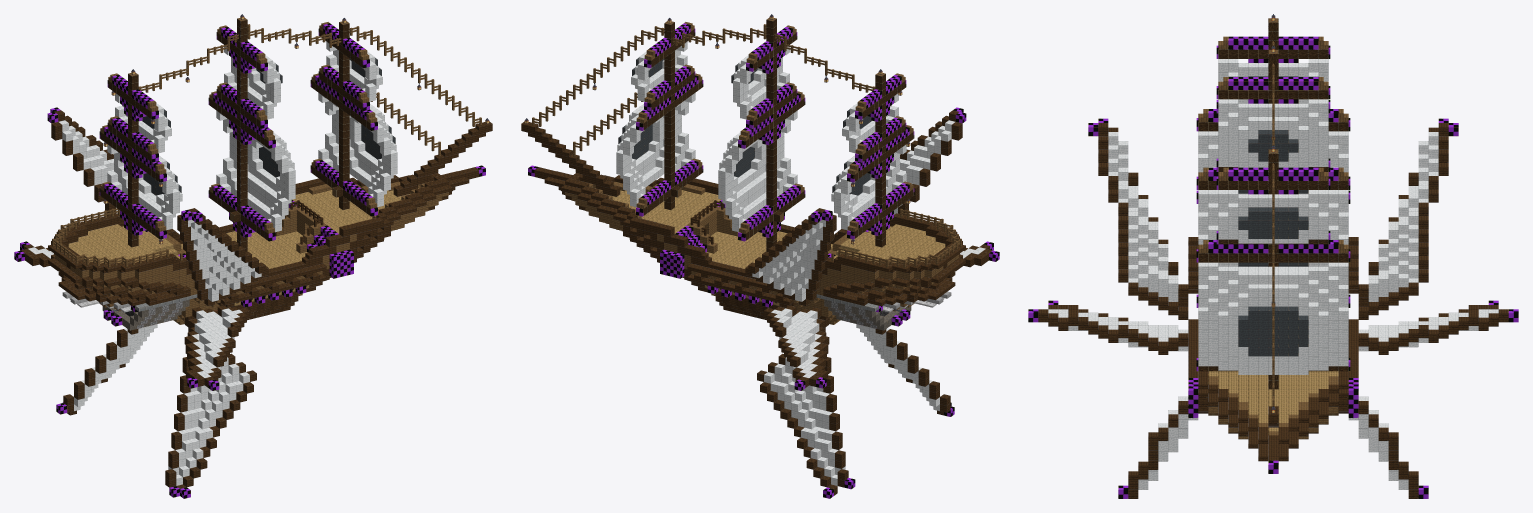
File: air_ship.obj
The picture shows the model from 3 angles, left to right: view 1: azimuth 30°, elevation 25°; view 2: azimuth 150°, elevation 25°; view 3: azimuth 270°, elevation 25°; orthographic projection. The views are drawn at different scales.
Parts seen in each view (by area): view 1: chunk_mesh_0_16_16, chunk_mesh_32_16_16, chunk_mesh_0_32_16, chunk_mesh_16_32_16, chunk_mesh_32_32_16, chunk_mesh_16_16_16, chunk_mesh_16_16_32, chunk_mesh_0_16_32, chunk_mesh_0_0_32, chunk_mesh_48_16_16, chunk_mesh_16_48_16, chunk_mesh_0_32_0 (+8 smaller); view 2: chunk_mesh_0_16_16, chunk_mesh_32_16_16, chunk_mesh_16_16_16, chunk_mesh_0_32_16, chunk_mesh_16_32_16, chunk_mesh_32_32_16, chunk_mesh_0_0_0, chunk_mesh_0_16_0, chunk_mesh_48_16_16, chunk_mesh_16_48_16, chunk_mesh_16_16_0, chunk_mesh_0_32_32 (+7 smaller); view 3: chunk_mesh_32_32_16, chunk_mesh_32_16_16, chunk_mesh_16_48_16, chunk_mesh_16_32_16, chunk_mesh_16_16_32, chunk_mesh_16_16_0, chunk_mesh_32_48_16, chunk_mesh_0_48_16, chunk_mesh_0_16_32, chunk_mesh_0_16_0, chunk_mesh_48_16_16, chunk_mesh_0_32_32 (+9 smaller).
Part boxes in pixels (x1,y1,x2,y2): chunk_mesh_0_16_16: (48,208,197,345); chunk_mesh_32_16_16: (273,148,410,295); chunk_mesh_0_32_16: (99,94,182,244); chunk_mesh_16_32_16: (208,65,295,216); chunk_mesh_32_32_16: (310,42,397,191); chunk_mesh_16_16_16: (166,173,309,332); chunk_mesh_16_16_32: (200,232,312,339); chunk_mesh_0_16_32: (139,255,235,388); chunk_mesh_0_0_32: (165,375,219,498); chunk_mesh_48_16_16: (385,143,485,228); chunk_mesh_16_48_16: (171,14,282,96); chunk_mesh_0_32_0: (47,107,113,186); chunk_mesh_0_16_16: (816,208,965,345); chunk_mesh_32_16_16: (603,148,740,295); chunk_mesh_16_16_16: (701,173,847,332); chunk_mesh_0_32_16: (831,94,913,244); chunk_mesh_16_32_16: (718,65,804,216); chunk_mesh_32_32_16: (616,42,702,191); chunk_mesh_0_0_0: (794,385,855,498); chunk_mesh_0_16_0: (778,255,829,390); chunk_mesh_48_16_16: (528,143,628,228); chunk_mesh_16_48_16: (731,14,842,96); chunk_mesh_16_16_0: (745,251,809,339); chunk_mesh_0_32_32: (900,107,966,195); chunk_mesh_32_32_16: (1198,203,1350,360); chunk_mesh_32_16_16: (1198,352,1358,432); chunk_mesh_16_48_16: (1216,45,1330,152); chunk_mesh_16_32_16: (1198,144,1350,266); chunk_mesh_16_16_32: (1118,234,1198,374); chunk_mesh_16_16_0: (1358,234,1428,354); chunk_mesh_32_48_16: (1216,103,1330,222); chunk_mesh_0_48_16: (1216,14,1330,76); chunk_mesh_0_16_32: (1038,217,1198,342); chunk_mesh_0_16_0: (1358,217,1518,342); chunk_mesh_48_16_16: (1218,405,1328,473); chunk_mesh_0_32_32: (1088,118,1198,234).
Bounding box in the file's own units: 63 × 57.69 × 49.
1 material, 1 textured.
